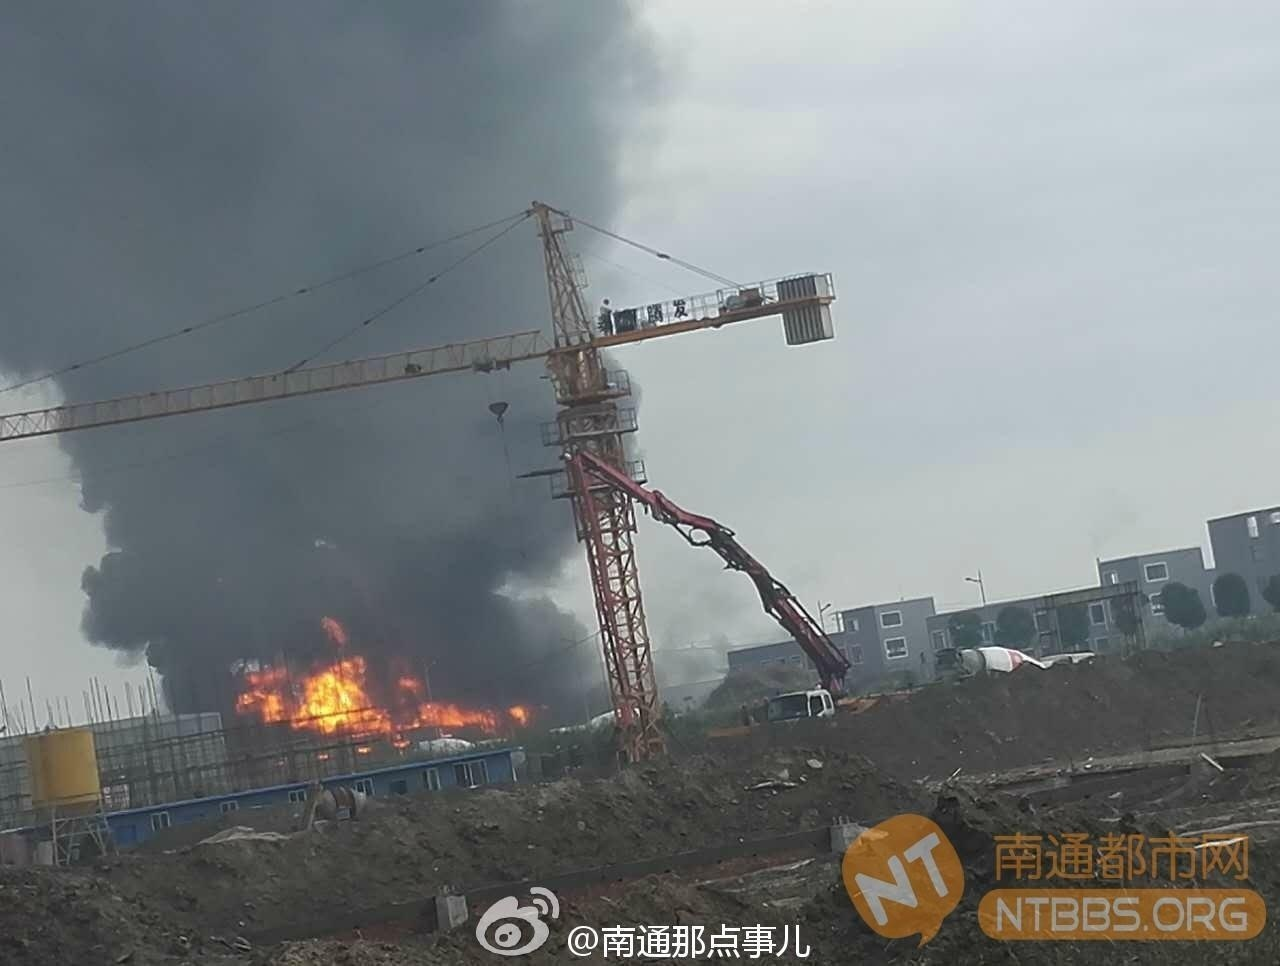fire: (242, 635, 529, 742)
